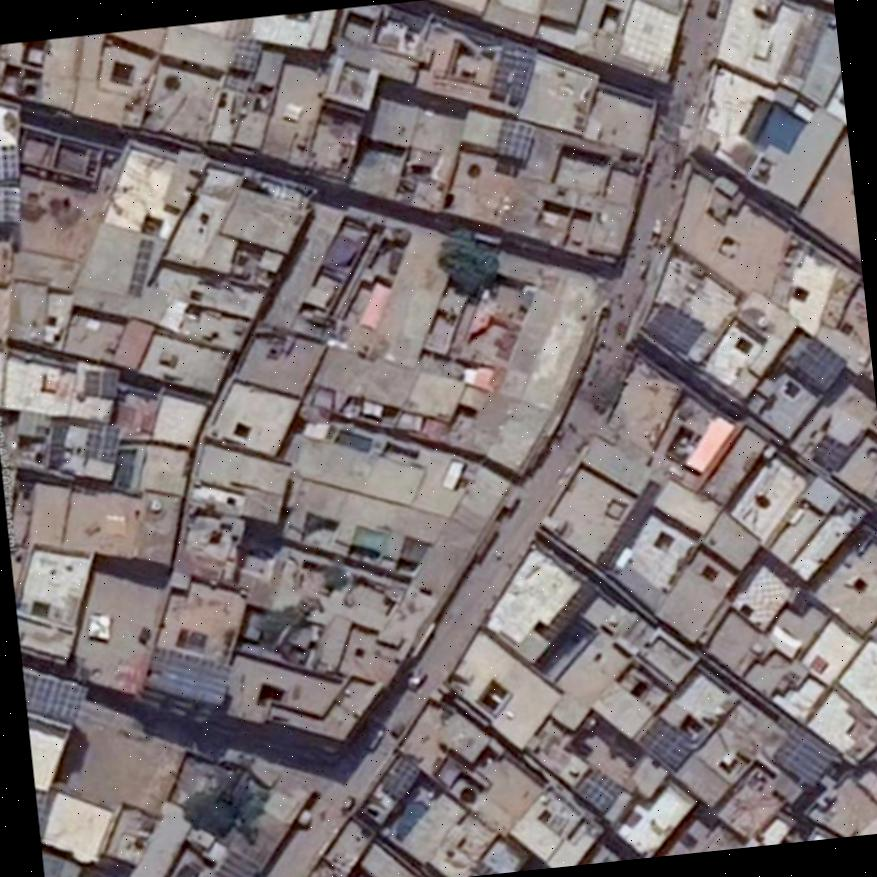Solarpanel: (775, 725, 839, 788), (23, 668, 86, 724), (636, 712, 693, 770), (645, 302, 703, 354), (793, 339, 847, 390), (574, 768, 619, 813), (492, 51, 534, 98), (81, 426, 120, 464), (494, 121, 533, 158), (814, 434, 850, 472), (211, 852, 258, 877), (230, 36, 259, 70), (86, 368, 118, 398), (0, 186, 22, 221), (0, 147, 16, 179), (35, 787, 47, 829)
